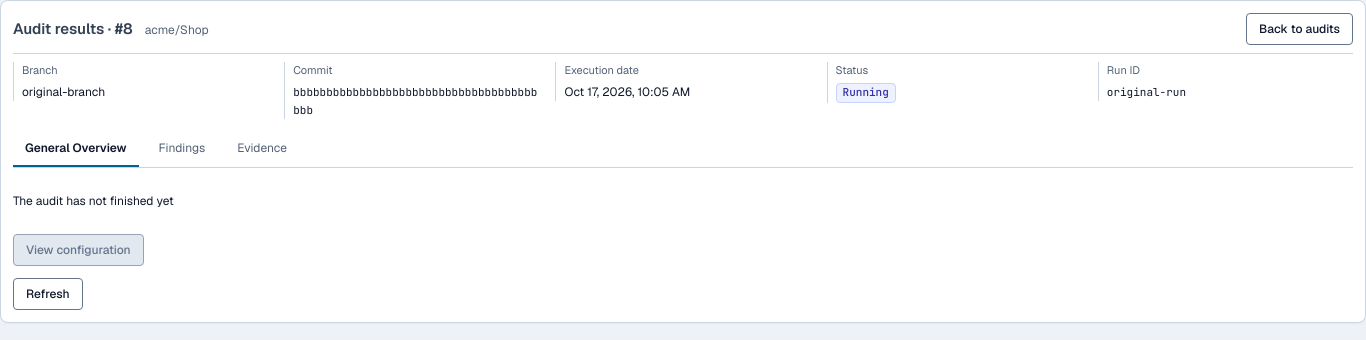
Test case: dedicated audit results › reveals results after refreshing an audit that has finished, keeping the selected tab
The width and height of the screenshot is (1366, 340).
Expected: the text "The audit has not finished yet" is shown, [13,192,174,208]
Click the tab "Findings": [182, 148] box [147,130,217,166]
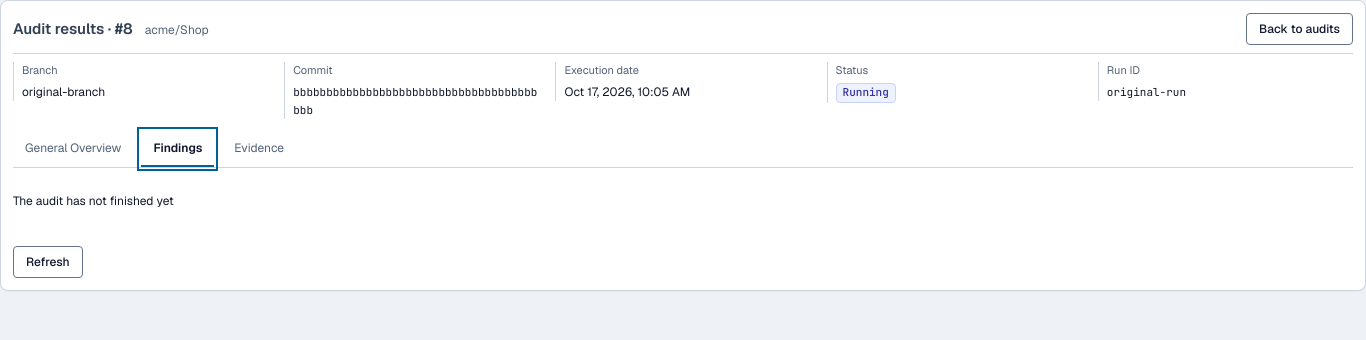
Click the button "Refresh": [48, 262] box [13,246,83,278]
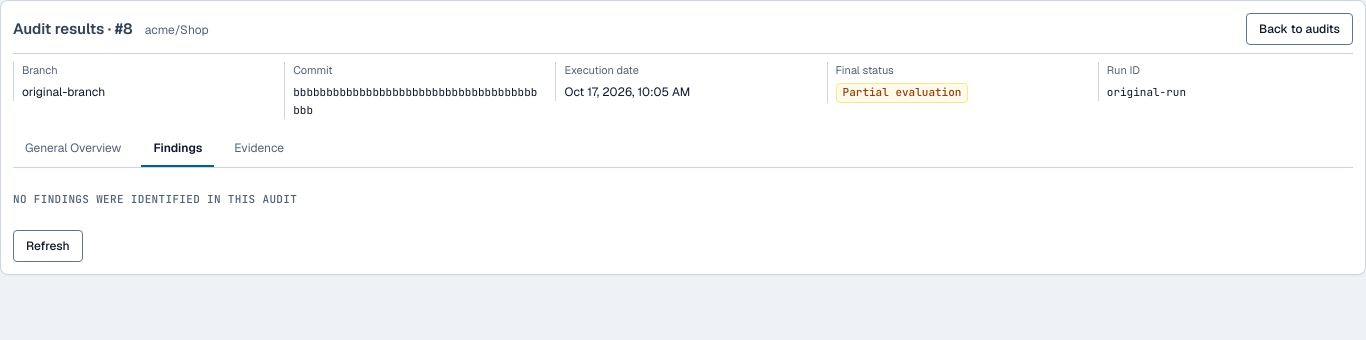
Now the text "No findings were identified in this audit" is shown, box [13,192,297,206]
Now the text "The audit has not finished yet" is gone
